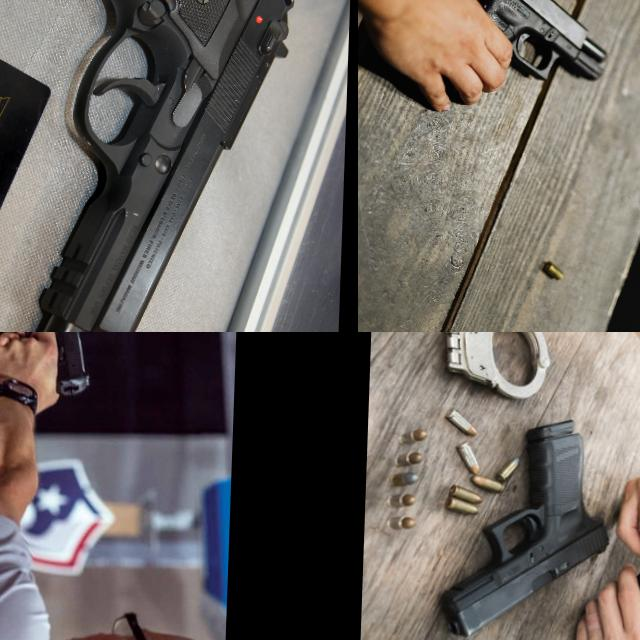handgun: (0, 0, 307, 332), (433, 413, 614, 640), (434, 0, 615, 87), (22, 332, 96, 399)
